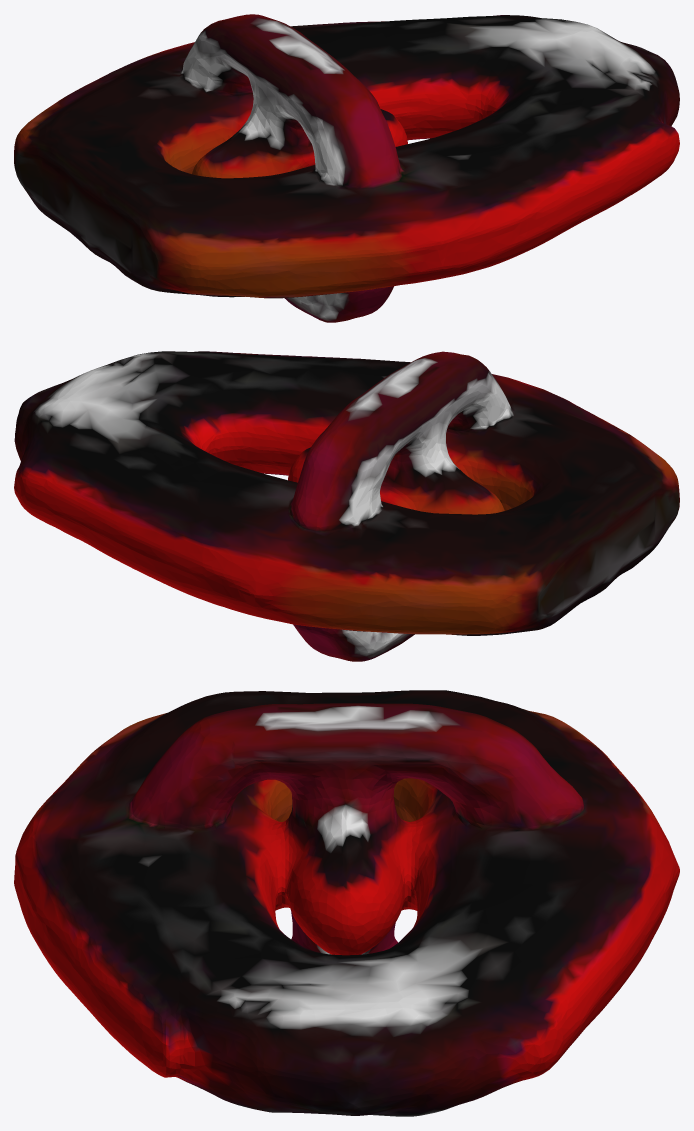
The model's file is dagger_r.glb.
The picture shows the model from 3 angles, top to bottom: view 1: azimuth 30°, elevation 25°; view 2: azimuth 150°, elevation 25°; view 3: azimuth 270°, elevation 25°; orthographic projection. The views are drawn at different scales.
Parts seen in each view (by area): view 1: geometry_0; view 2: geometry_0; view 3: geometry_0.
Boxes of the visible parts, bbox=[...] form: geometry_0: bbox=[14, 14, 679, 322]; geometry_0: bbox=[14, 351, 679, 661]; geometry_0: bbox=[14, 690, 679, 1116].
Size of the model in its own units: 0.8008 by 0.3125 by 0.6283.
